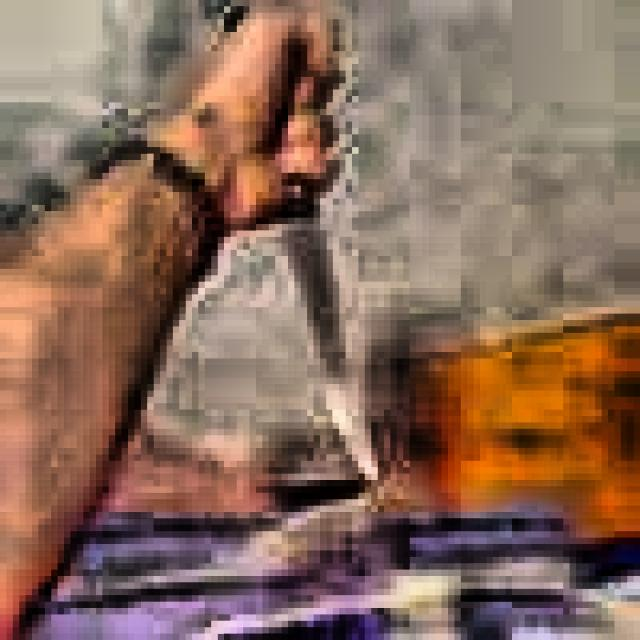knife: (226, 12, 384, 486)
